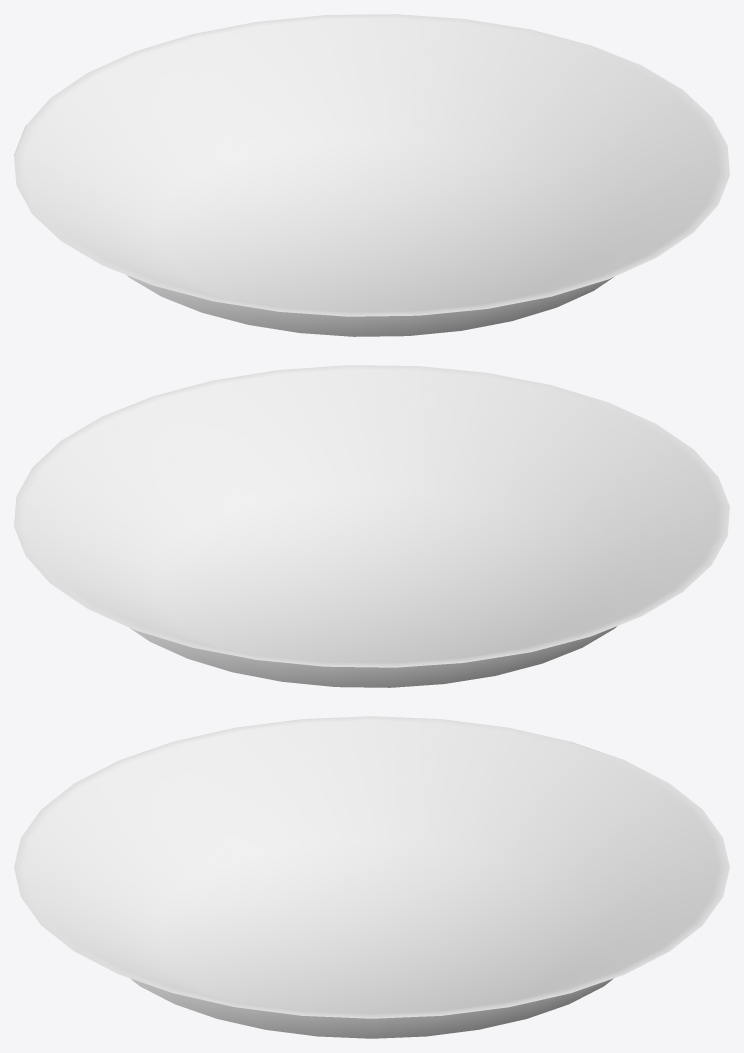
Rendered from KitchenPlate.004.fbx.
The picture shows the model from 3 angles, top to bottom: view 1: azimuth 30°, elevation 25°; view 2: azimuth 150°, elevation 25°; view 3: azimuth 270°, elevation 25°; orthographic projection.
Visible parts, largest first — view 1: KitchenPlate.004_Baked; view 2: KitchenPlate.004_Baked; view 3: KitchenPlate.004_Baked.
Part boxes in pixels (x1,y1,x2,y2): KitchenPlate.004_Baked: (14,14,729,336); KitchenPlate.004_Baked: (14,365,729,687); KitchenPlate.004_Baked: (14,716,729,1038).
Size of the model in its own units: 31.4 by 3.27 by 31.4.
1 material, 1 textured.
